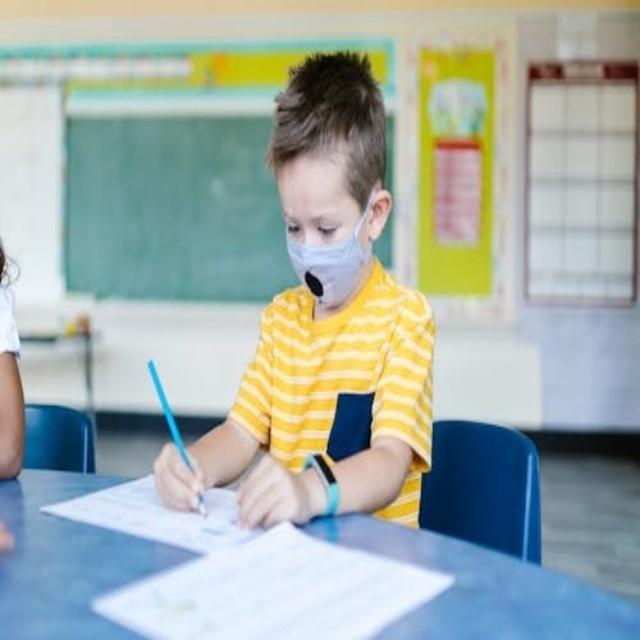Mascara: (287, 189, 376, 306)
Sin_gafas: (317, 223, 338, 235), (287, 223, 301, 235)
Sin_guantes: (232, 449, 304, 530), (154, 440, 208, 516)
Sin_mascara: (305, 271, 323, 298)
